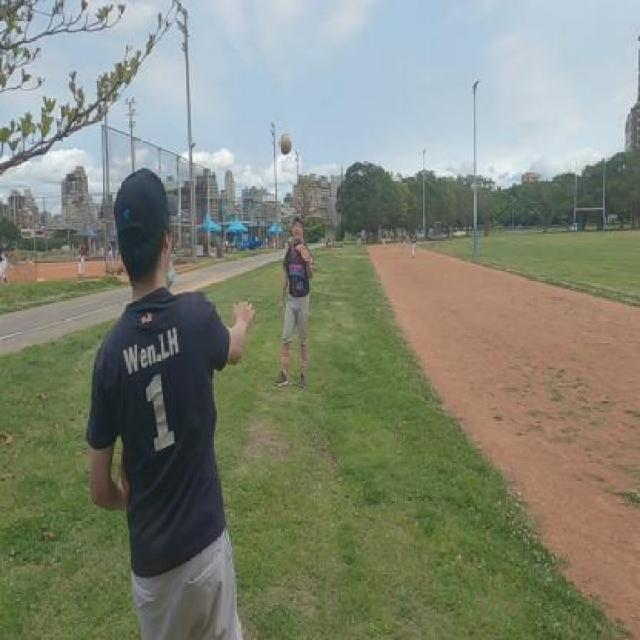sports ball: (279, 134, 293, 154)
